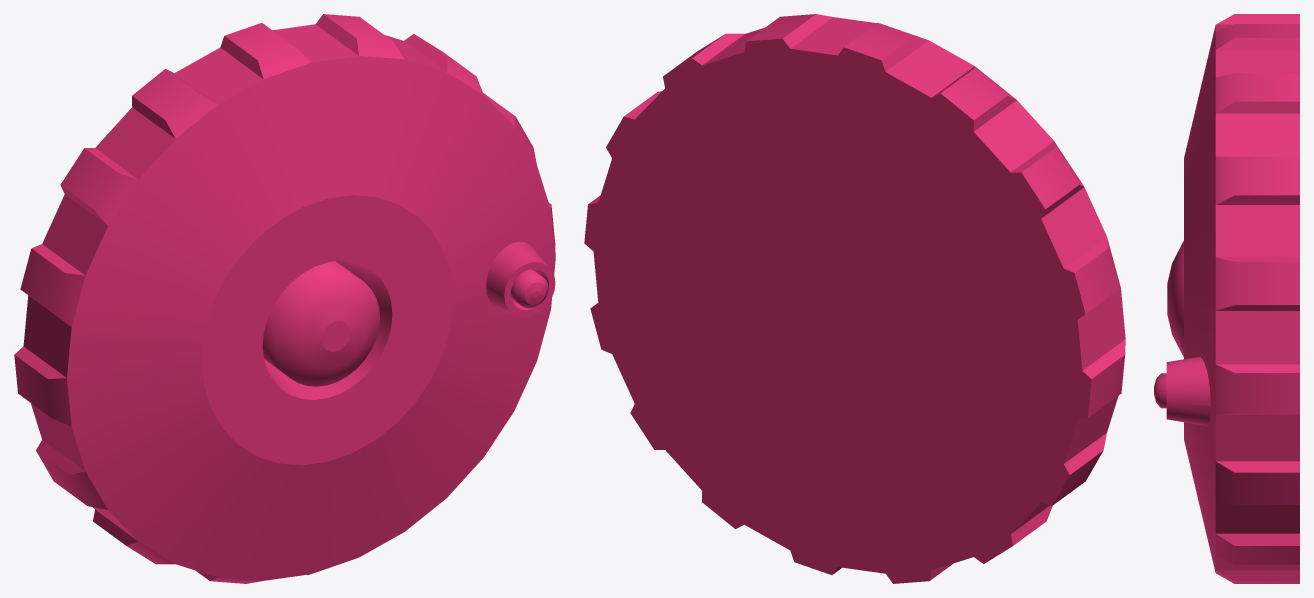
File: Dial2.glb
3 views of the same model, side by side, from view 1: azimuth 30°, elevation 25°; view 2: azimuth 150°, elevation 25°; view 3: azimuth 270°, elevation 25° (orthographic). The views are drawn at different scales.
Visible parts, largest first — view 1: Dial.003; view 2: Dial.003; view 3: Dial.003.
Part boxes in pixels (<box>): Dial.003: <box>14,14,555,583</box>; Dial.003: <box>584,14,1125,583</box>; Dial.003: <box>1154,14,1299,583</box>.
Size of the model in its own units: 0.2503 by 0.2503 by 0.0641.
